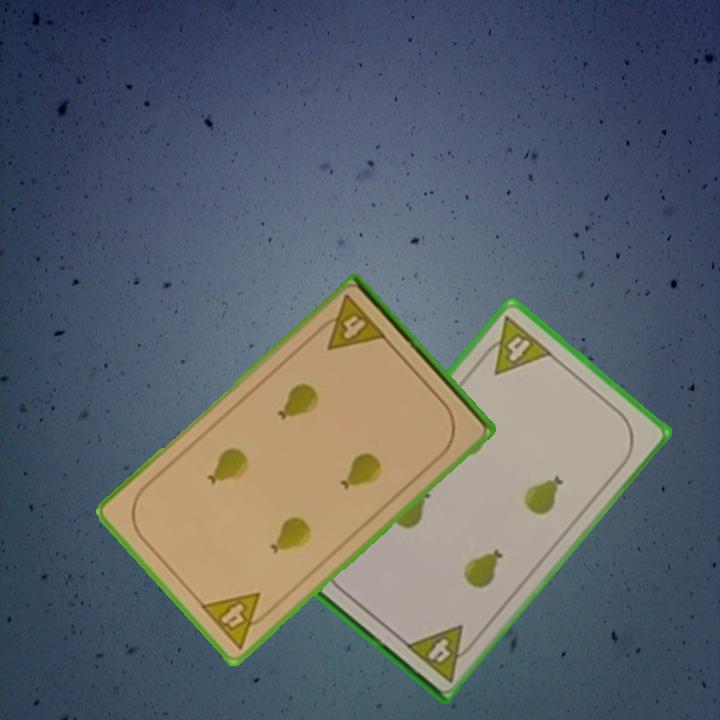4p: (475, 311, 556, 378), (196, 588, 277, 652), (401, 621, 480, 685), (311, 291, 390, 354)
